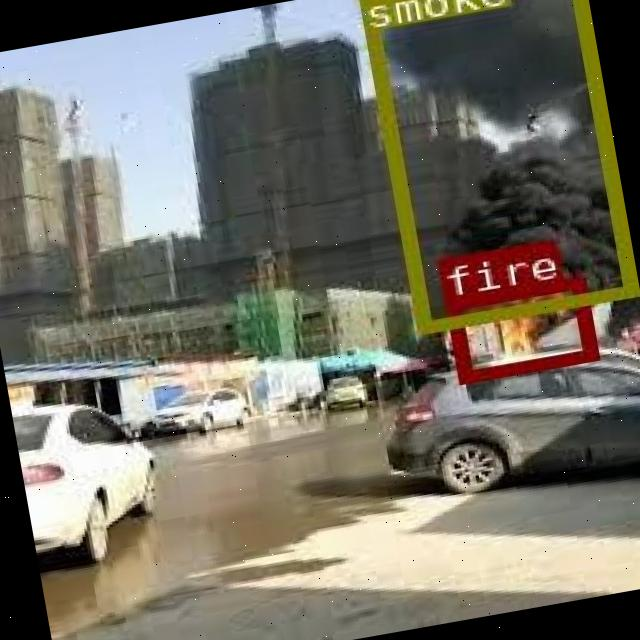fire: (442, 275, 596, 381)
smoke: (355, 0, 634, 330)
